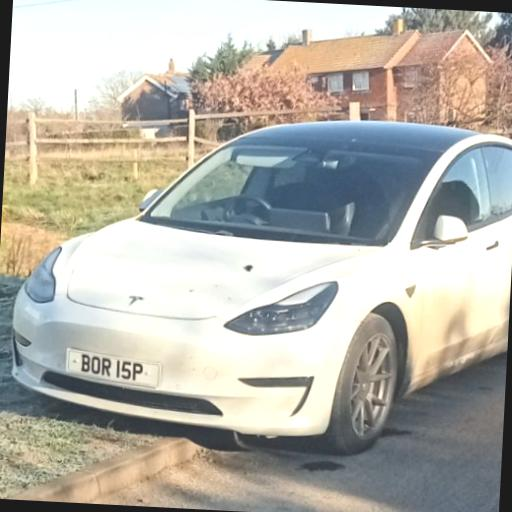numberplates: (67, 349, 159, 388)
